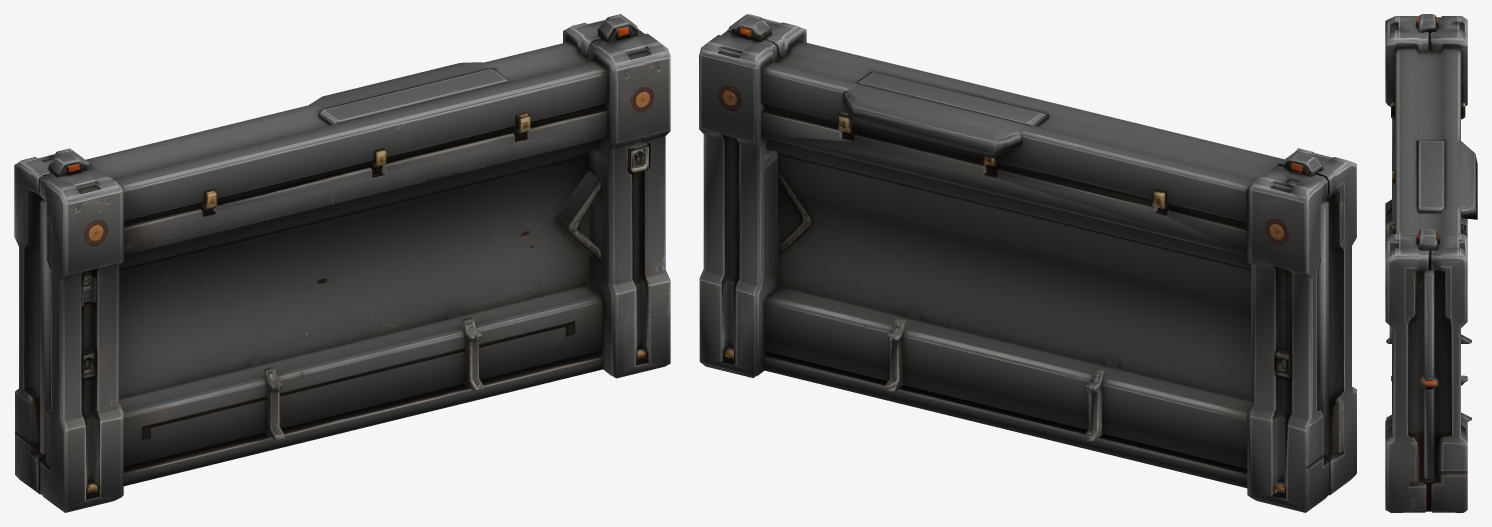
The model's file is selected.glb.
3 renders of one model, left to right at view 1: azimuth 30°, elevation 25°; view 2: azimuth 150°, elevation 25°; view 3: azimuth 270°, elevation 25°, orthographic. The views are drawn at different scales.
Parts seen in each view (by area): view 1: tripo_node_34d284ff-3e6e-4cd2-af71-c40a9e02336a; view 2: tripo_node_34d284ff-3e6e-4cd2-af71-c40a9e02336a; view 3: tripo_node_34d284ff-3e6e-4cd2-af71-c40a9e02336a.
Part boxes in pixels (x1,y1,x2,y2): tripo_node_34d284ff-3e6e-4cd2-af71-c40a9e02336a: (14,14,670,512); tripo_node_34d284ff-3e6e-4cd2-af71-c40a9e02336a: (699,14,1356,512); tripo_node_34d284ff-3e6e-4cd2-af71-c40a9e02336a: (1385,14,1477,512).
Size of the model in its own units: 0.998 by 0.5254 by 0.1621.
1 material, 1 textured.
